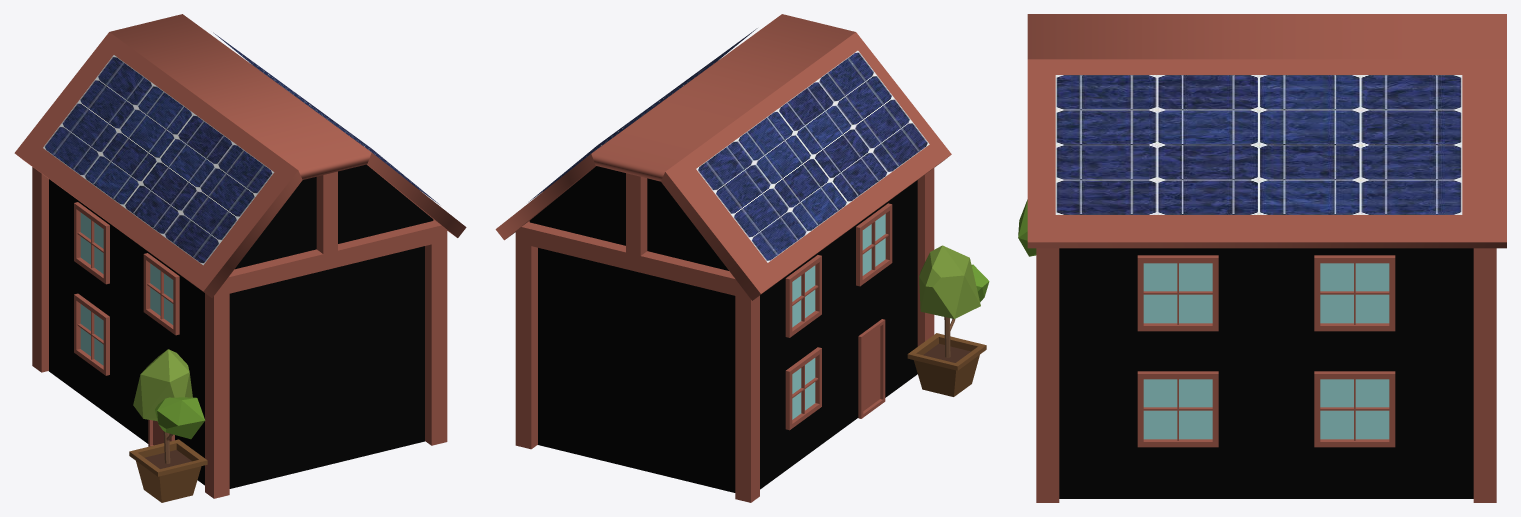
The model's file is newHouse4 1.fbx.
3 renders of one model, left to right at view 1: azimuth 30°, elevation 25°; view 2: azimuth 150°, elevation 25°; view 3: azimuth 270°, elevation 25°, orthographic. The views are drawn at different scales.
Parts seen in each view (by area): view 1: Wohnhaus4.001, Wohnhaus5.004, Plane.025, Cube.015, Cube.030, Plane.028, Plane.029; view 2: Wohnhaus4.001, Wohnhaus5.004, Plane.025, Cube.015, Cube.030, Plane.028, Plane.030, Plane.029; view 3: Wohnhaus4.001, Plane.025, Wohnhaus5.004, Plane.028, Plane.029, Cube.015.
Boxes of the visible parts, box(x1,y1,x2,y2) form: Wohnhaus4.001: box(49, 164, 433, 488); Wohnhaus5.004: box(14, 14, 466, 297); Plane.025: box(43, 32, 439, 265); Cube.015: box(32, 167, 447, 498); Cube.030: box(129, 349, 207, 502); Plane.028: box(74, 202, 179, 335); Plane.029: box(74, 293, 109, 375); Wohnhaus4.001: box(529, 166, 917, 492); Wohnhaus5.004: box(495, 14, 951, 300); Plane.025: box(528, 28, 929, 262); Cube.015: box(515, 168, 934, 502); Cube.030: box(907, 245, 989, 396); Plane.028: box(785, 203, 892, 337); Plane.030: box(858, 319, 885, 418); Plane.029: box(785, 347, 821, 430); Wohnhaus4.001: box(1059, 248, 1473, 498); Plane.025: box(1055, 75, 1462, 214); Wohnhaus5.004: box(1027, 14, 1506, 248); Plane.028: box(1137, 255, 1395, 331); Plane.029: box(1137, 371, 1395, 447); Cube.015: box(1036, 248, 1496, 502).
Bounding box in the file's own units: 8.45 × 8.19 × 9.17.
